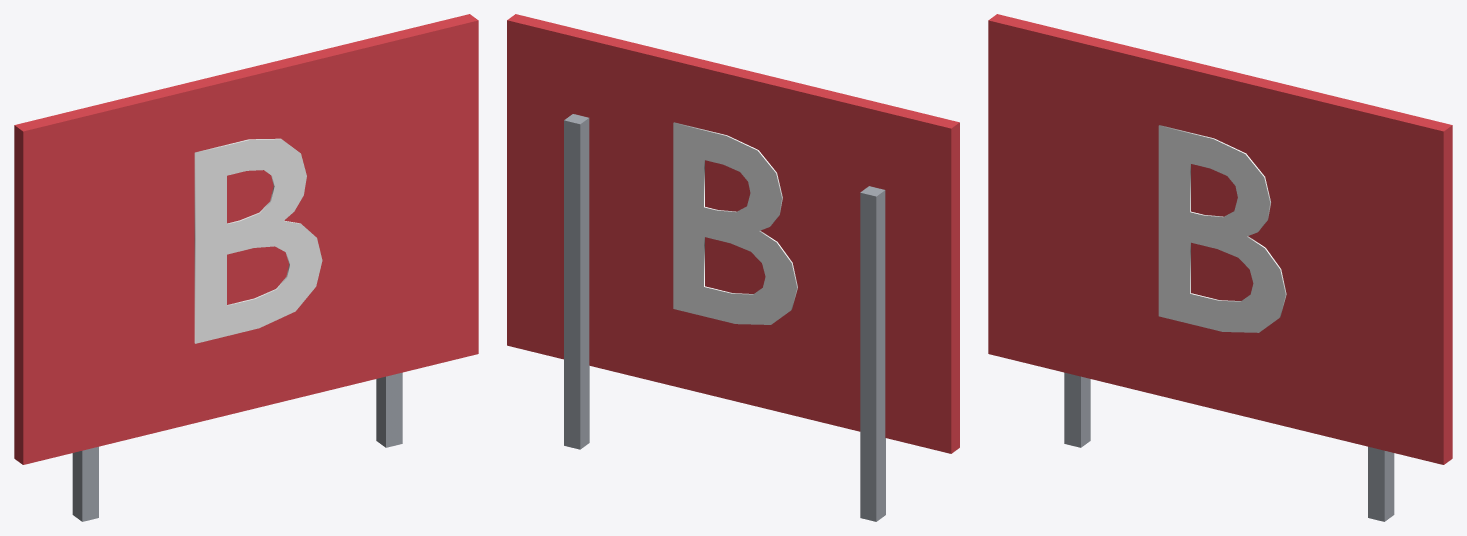
Rendered from setor_B.glb.
3 views of the same model, side by side, from view 1: azimuth 30°, elevation 25°; view 2: azimuth 150°, elevation 25°; view 3: azimuth 330°, elevation 25° (orthographic). The views are drawn at different scales.
Visible parts, largest first — view 1: vermelho, t, aco; view 2: vermelho, aco, t.001; view 3: vermelho, t, aco.
Boxes of the visible parts, x1=… form: vermelho: x1=14, y1=14, x2=478, y2=464; t: x1=194, y1=138, x2=322, y2=343; aco: x1=72, y1=372, x2=402, y2=521; vermelho: x1=507, y1=14, x2=959, y2=453; aco: x1=564, y1=114, x2=885, y2=521; t.001: x1=673, y1=122, x2=797, y2=324; vermelho: x1=988, y1=14, x2=1452, y2=464; t: x1=1158, y1=125, x2=1286, y2=332; aco: x1=1064, y1=372, x2=1394, y2=521.
Size of the model in its own units: 6 by 5.2 by 0.432.
